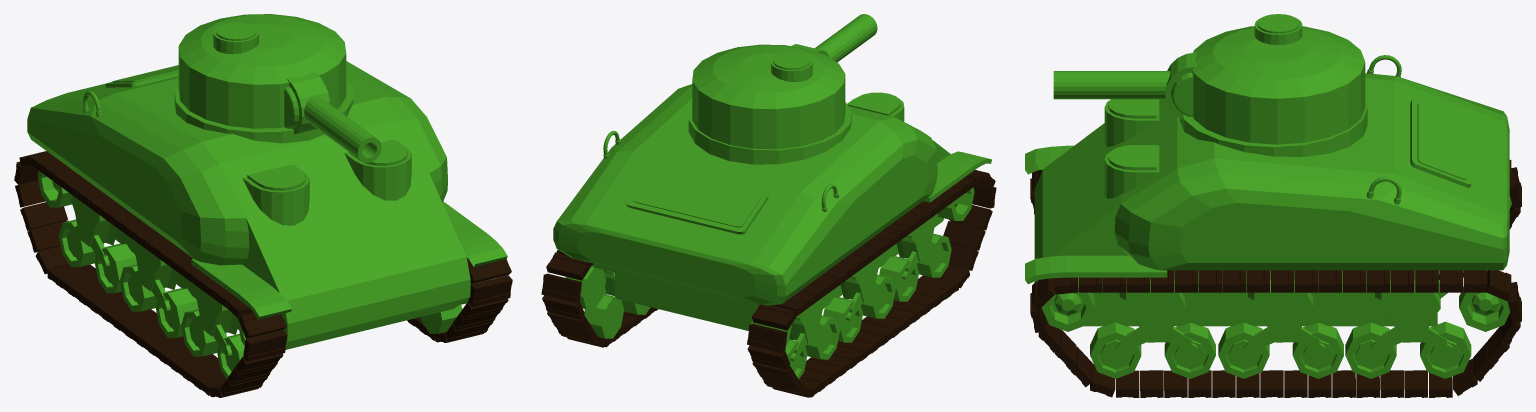
File: CartoonTank4.fbx
3 renders of one model, left to right at view 1: azimuth 30°, elevation 25°; view 2: azimuth 150°, elevation 25°; view 3: azimuth 270°, elevation 25°, orthographic. The views are drawn at different scales.
Parts seen in each view (by area): view 1: CartoonTank; view 2: CartoonTank; view 3: CartoonTank.
Boxes of the visible parts, x1=… form: CartoonTank: x1=14, y1=14, x2=512, y2=397; CartoonTank: x1=541, y1=14, x2=996, y2=397; CartoonTank: x1=1025, y1=14, x2=1521, y2=397.
Bounding box in the file's own units: 1003 × 1031 × 1574.
